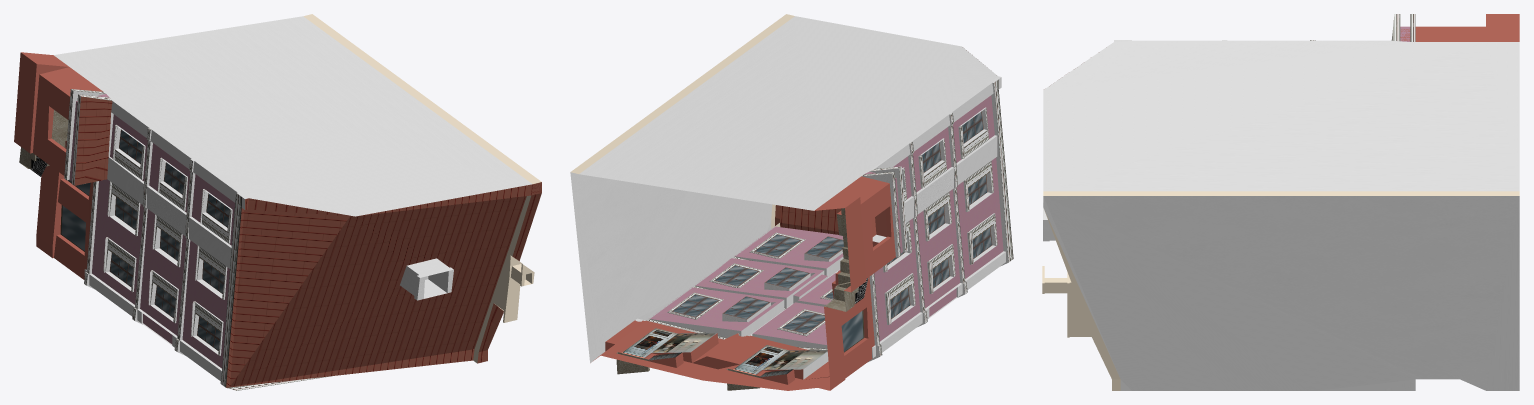
File: viru_17-origo.obj
3 views of the same model, side by side, from view 1: azimuth 30°, elevation 25°; view 2: azimuth 150°, elevation 25°; view 3: azimuth 270°, elevation 25° (orthographic). The views are drawn at different scales.
Visible parts, largest first — view 1: Object001; view 2: Object001; view 3: Object001.
Boxes of the visible parts, x1=… form: Object001: x1=14, y1=14, x2=541, y2=390; Object001: x1=570, y1=14, x2=1013, y2=390; Object001: x1=1042, y1=14, x2=1519, y2=390.
Size of the model in its own units: 14.19 by 11 by 18.95.
